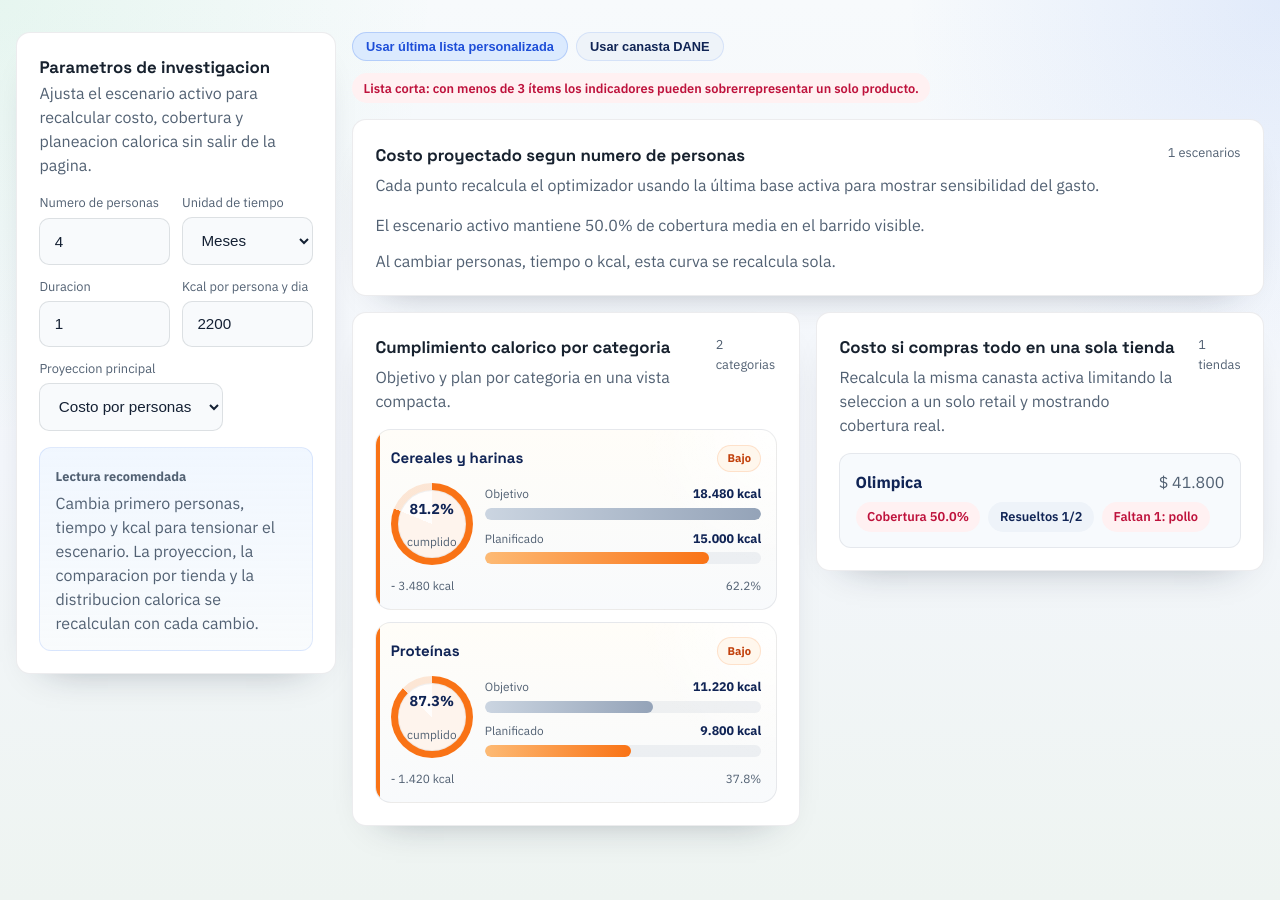
Test: Statistics page › recalcula la vista cuando cambian filtros clave del escenario
expect the heading "Costo proyectado segun numero de personas" is shown: met, box [375,144,745,166]
Replace the text in the number field labelled "Numero de personas" with "6" at (105, 242), box [39,218,170,265]
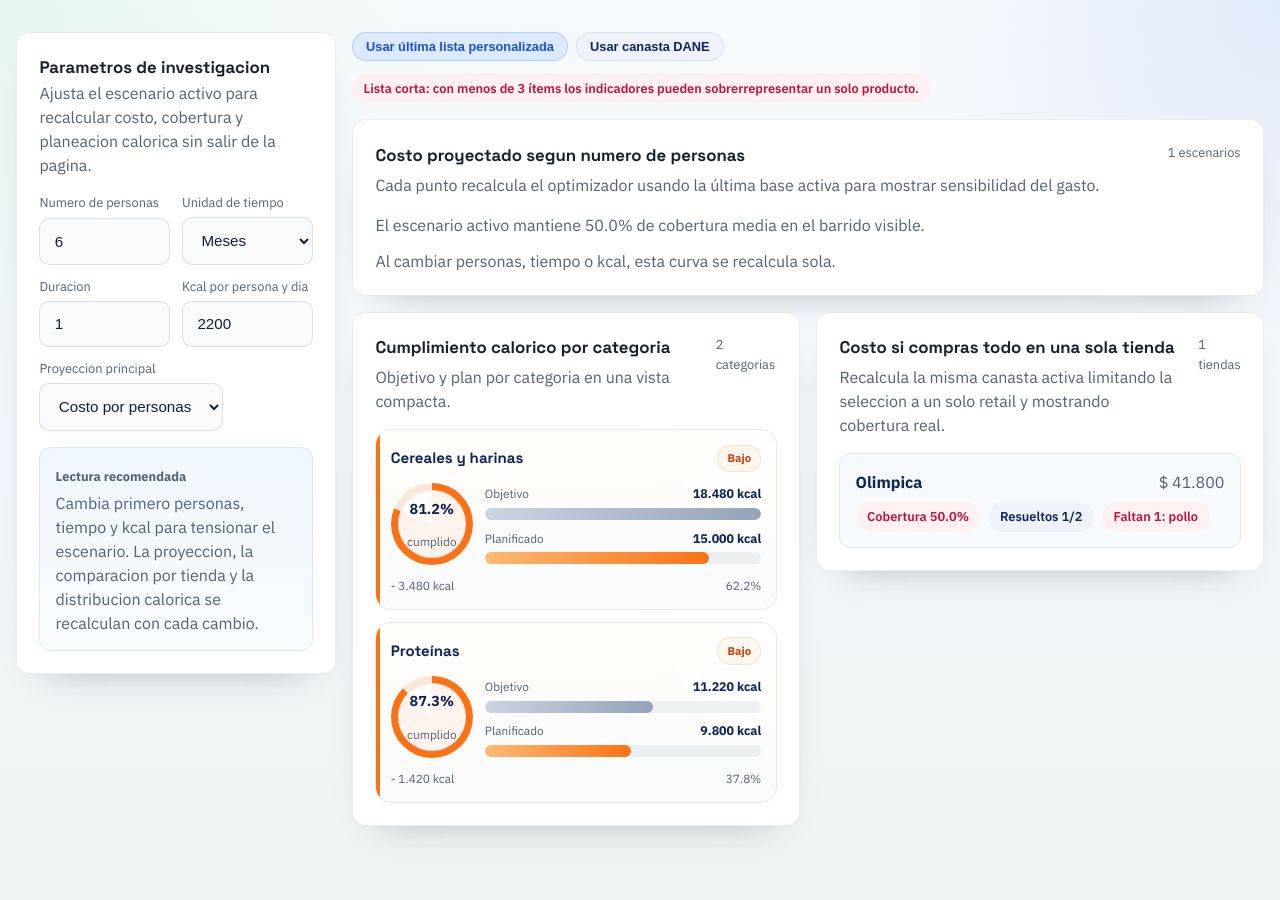
Select "Costo por tiempo" in the dropdown labelled "Proyeccion principal" at (131, 407), box [39,383,223,431]
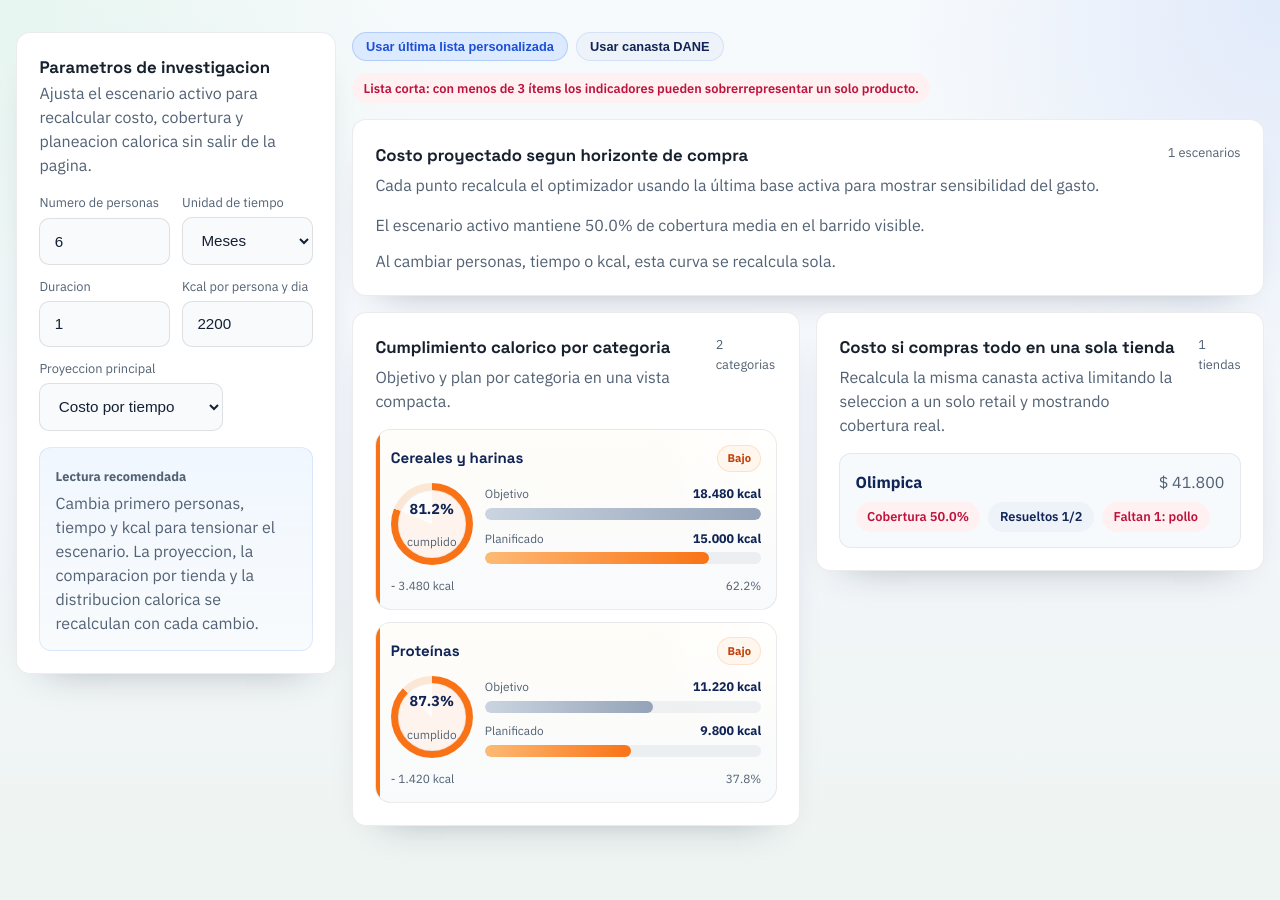
expect the heading "Costo proyectado segun horizonte de compra" is shown: met, box [375,144,748,166]
